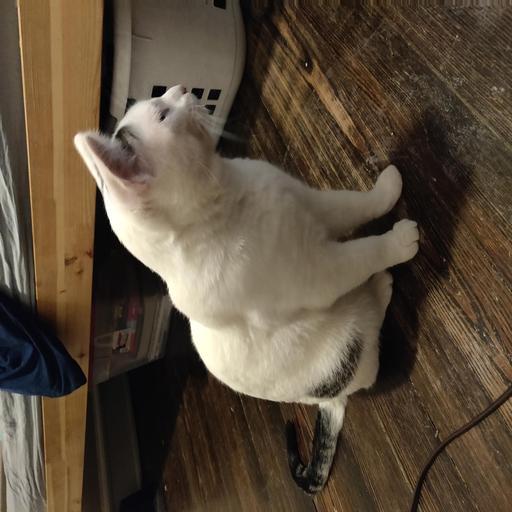cat: (56, 77, 380, 401)
